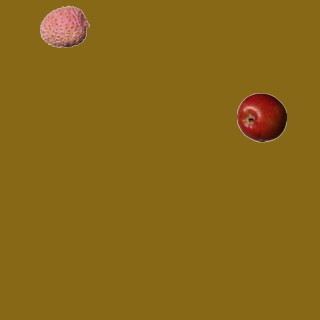Apple Braeburn: (236, 92, 286, 142)
Lychee: (39, 1, 89, 51)
